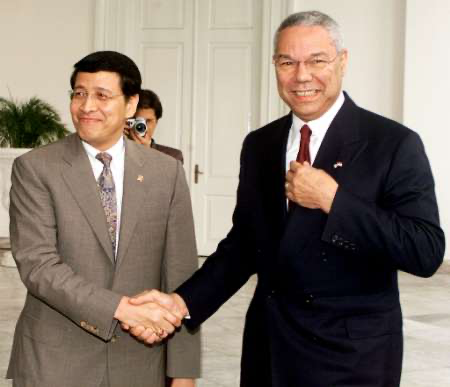Face: (270, 38, 345, 120), (63, 74, 129, 150), (126, 108, 159, 151)
